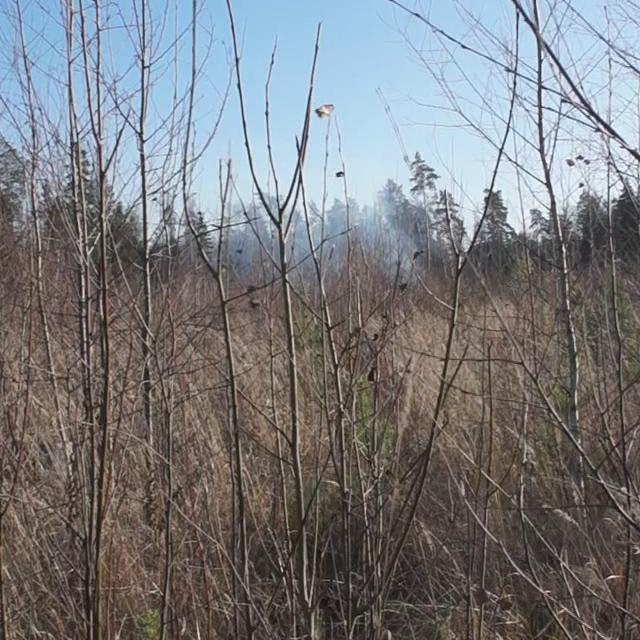Smoke: (213, 196, 437, 294)
